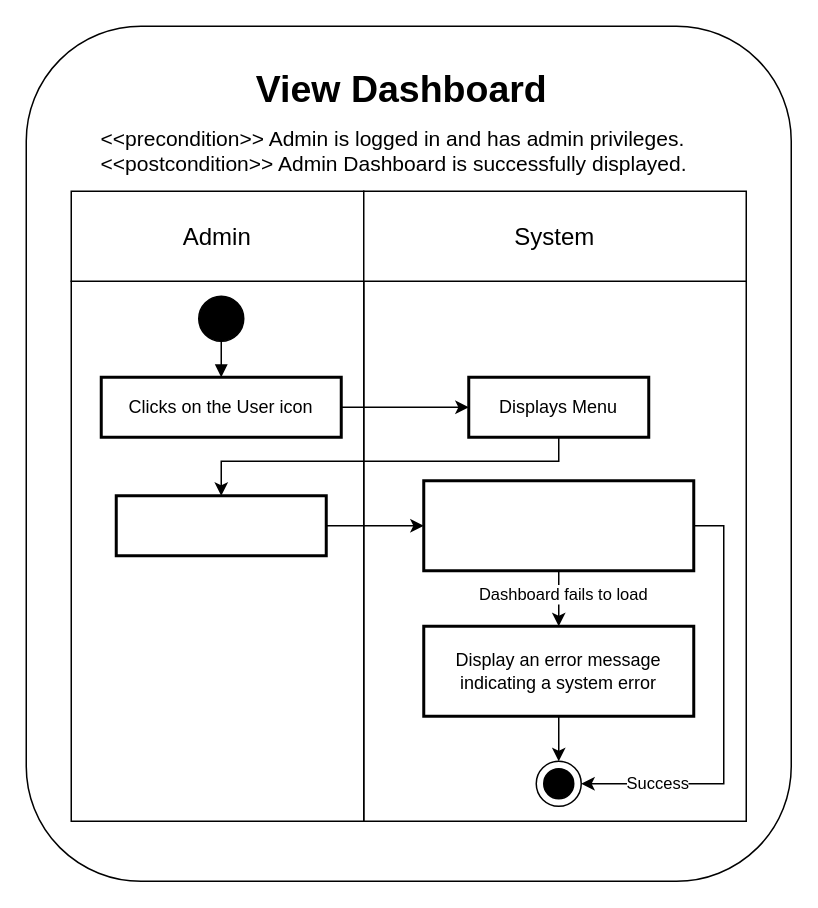
Image size: 818x908. Some labels were removed from this diagram. The shapes that lost their labels are listed below. From the top down, each one's centre as x and y in pixels, then its label:
(x=220, y=525): Clicks on Dashboard
(x=558, y=525): Navigates to Admin Dashboard page and display all the plots
